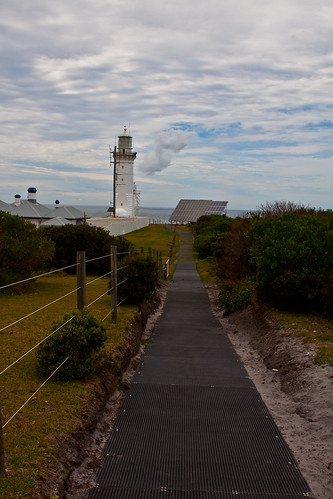building: (97, 129, 150, 235), (1, 188, 87, 232)
sky: (1, 1, 325, 193)
vegetation: (1, 245, 151, 466), (209, 213, 333, 320)
